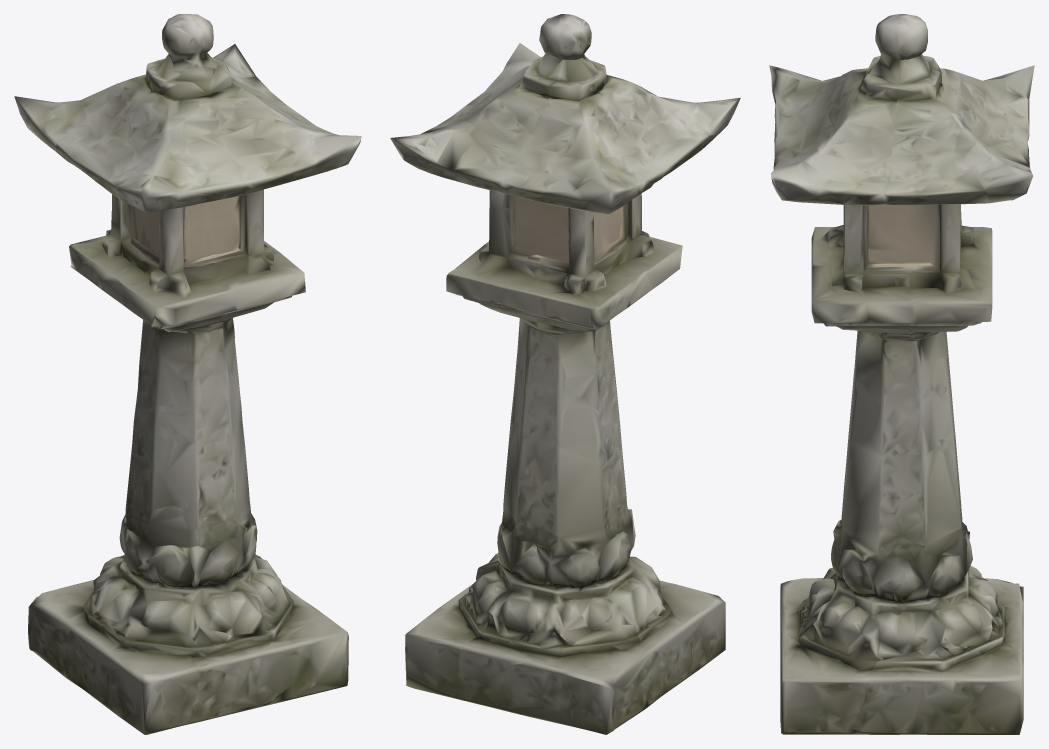
The model's file is station_亭灯.glb.
The picture shows the model from 3 angles, left to right: view 1: azimuth 30°, elevation 25°; view 2: azimuth 150°, elevation 25°; view 3: azimuth 270°, elevation 25°; orthographic projection. The views are drawn at different scales.
Visible parts, largest first — view 1: tripo_node_9d23c17a-4839-4fc6-8a21-4636abd0e630; view 2: tripo_node_9d23c17a-4839-4fc6-8a21-4636abd0e630; view 3: tripo_node_9d23c17a-4839-4fc6-8a21-4636abd0e630.
Boxes of the visible parts, left/top/right/bottom form: tripo_node_9d23c17a-4839-4fc6-8a21-4636abd0e630: left=14, top=14, right=361, bottom=734; tripo_node_9d23c17a-4839-4fc6-8a21-4636abd0e630: left=390, top=14, right=740, bottom=734; tripo_node_9d23c17a-4839-4fc6-8a21-4636abd0e630: left=769, top=14, right=1034, bottom=734.
Bounding box in the file's own units: 0.1884 × 0.5311 × 0.1908.
